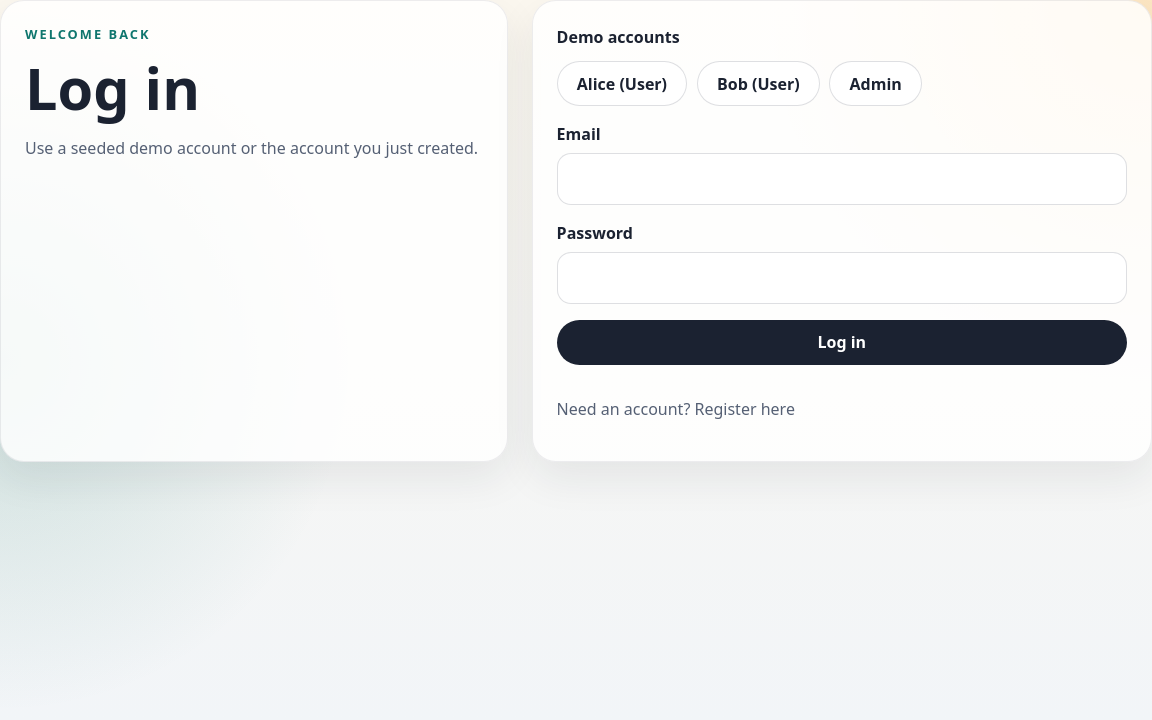
Test: LoginPage › fills the form when {"label":"Admin","email":"admin@example.com","password":"Admin123!"} is selected
The width and height of the screenshot is (1152, 720).
Click the button "Admin" at (876,84), box left=829, top=61, right=922, bottom=106
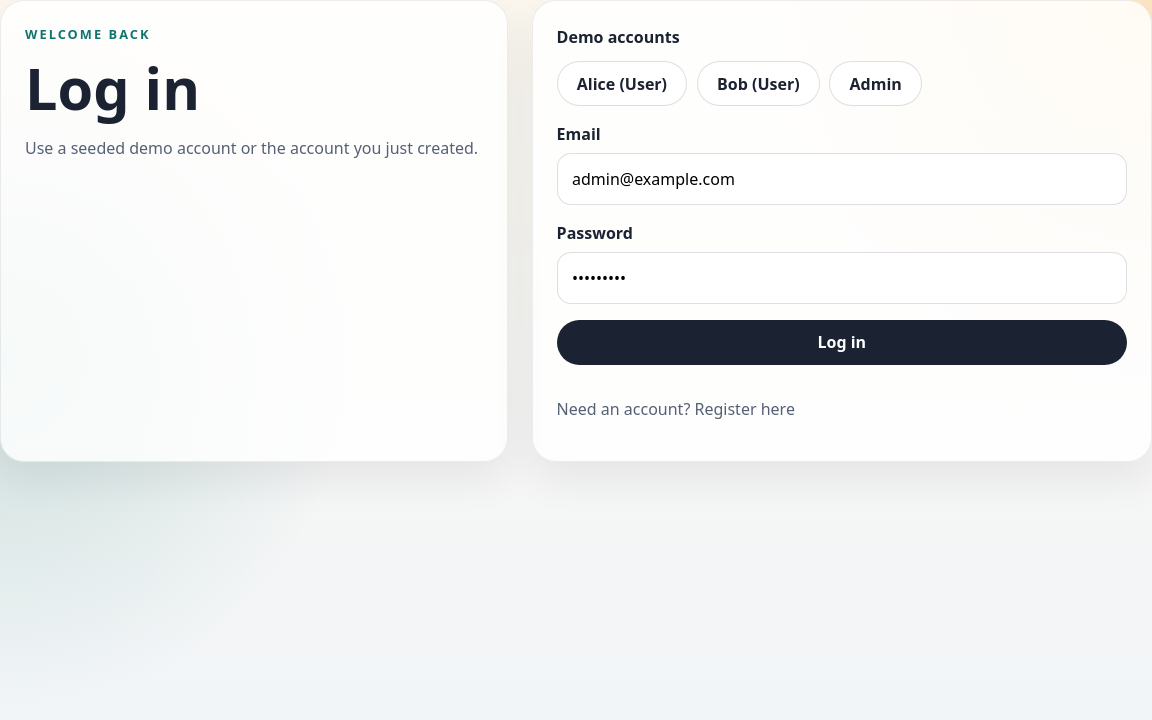
Result: the field labelled "Email" holds "admin@example.com" at left=557, top=153, right=1127, bottom=205
Result: the password field labelled "Password" holds "Admin123!" at left=557, top=252, right=1127, bottom=304
